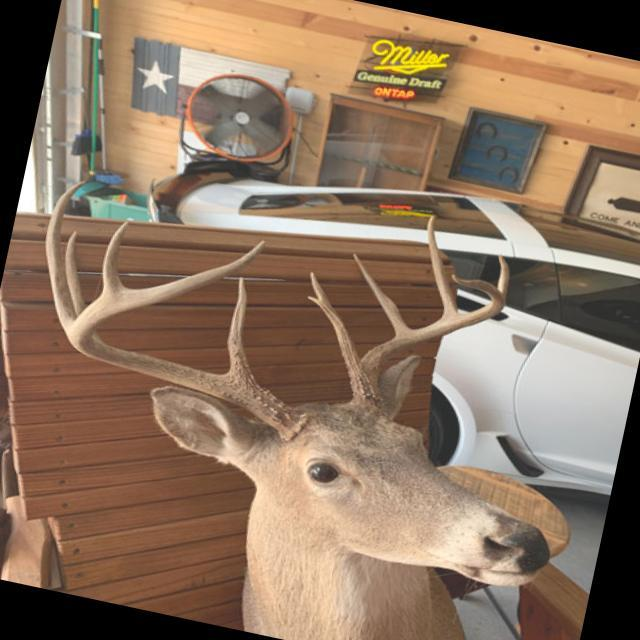E1: (306, 295, 320, 307)
L-F: (350, 273, 505, 416)
L-G1: (308, 271, 370, 391)
L-G2: (352, 252, 410, 337)
L-G3: (426, 214, 457, 316)
R-F: (65, 239, 305, 440)
R-G1: (226, 276, 254, 379)
R-G3: (45, 178, 87, 332)
R-G4: (101, 221, 129, 292)
